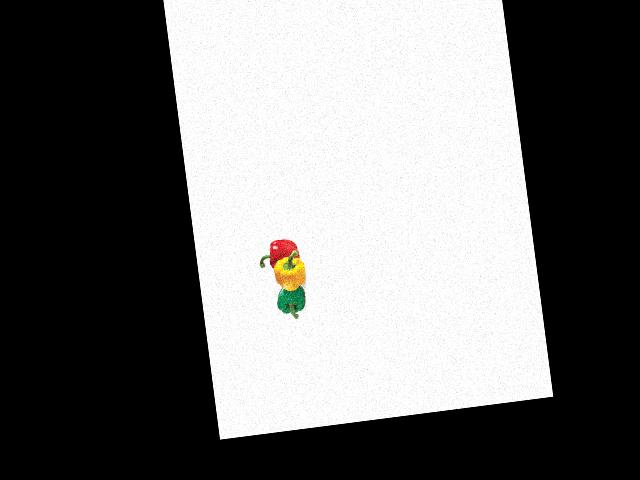bell_pepper: (272, 280, 310, 320)
